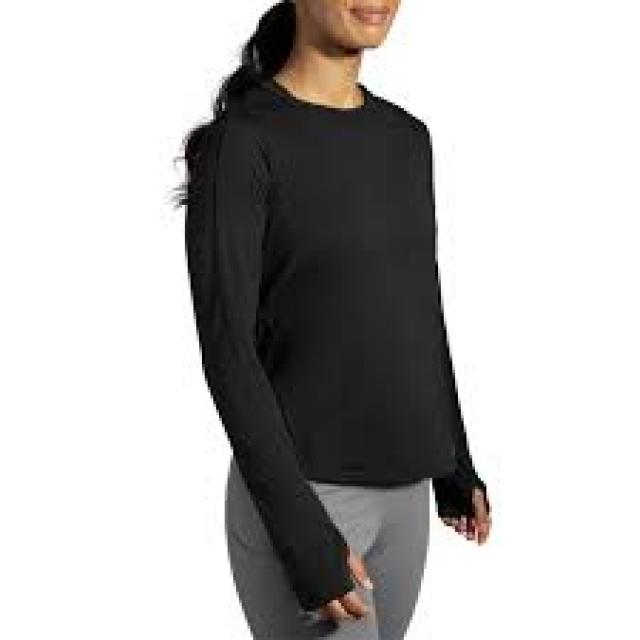plain: (173, 65, 482, 491)
